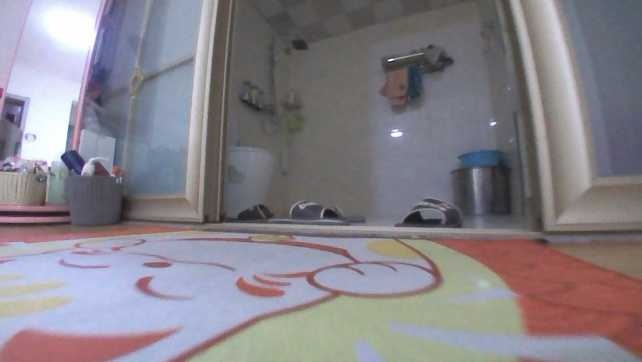blanket: (0, 227, 640, 360)
slipper: (391, 195, 465, 230), (264, 198, 350, 227), (224, 202, 293, 225)
toilet: (221, 101, 275, 215)
